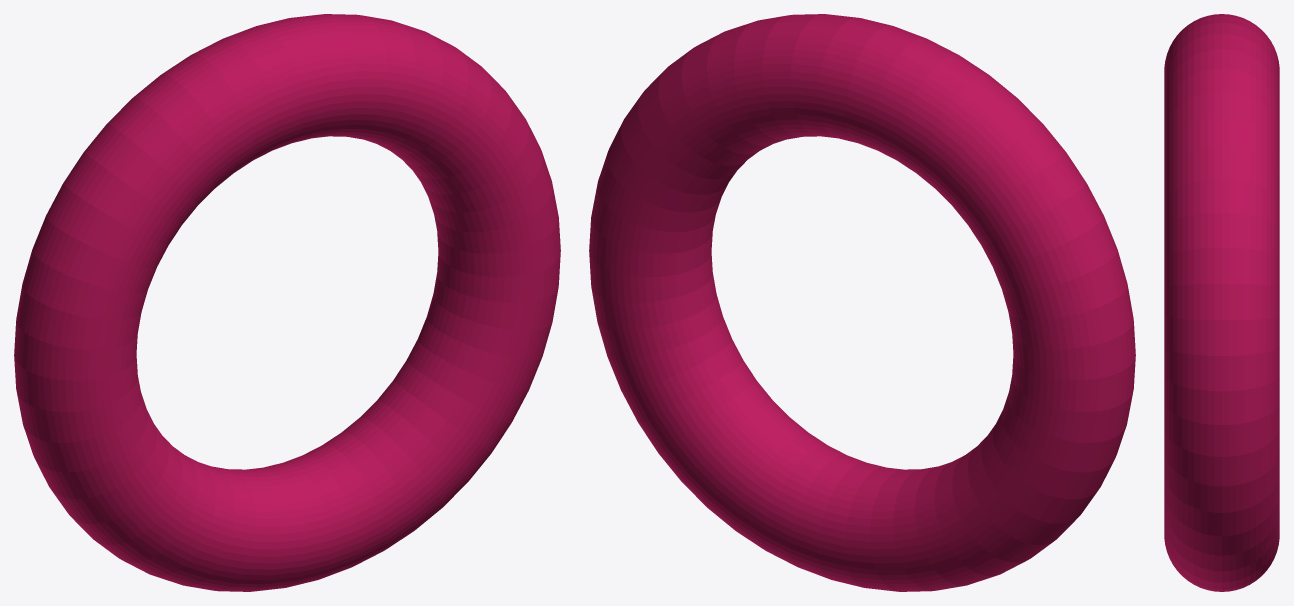
3 views of the same model, side by side, from view 1: azimuth 30°, elevation 25°; view 2: azimuth 150°, elevation 25°; view 3: azimuth 270°, elevation 25° (orthographic). The views are drawn at different scales.
Visible parts, largest first — view 1: world; view 2: world; view 3: world.
Boxes of the visible parts, left/top/right/bottom form: world: left=14, top=14, right=560, bottom=591; world: left=589, top=14, right=1135, bottom=591; world: left=1164, top=14, right=1279, bottom=591.
Bounding box in the file's own units: 36.67 × 36.59 × 7.32.
